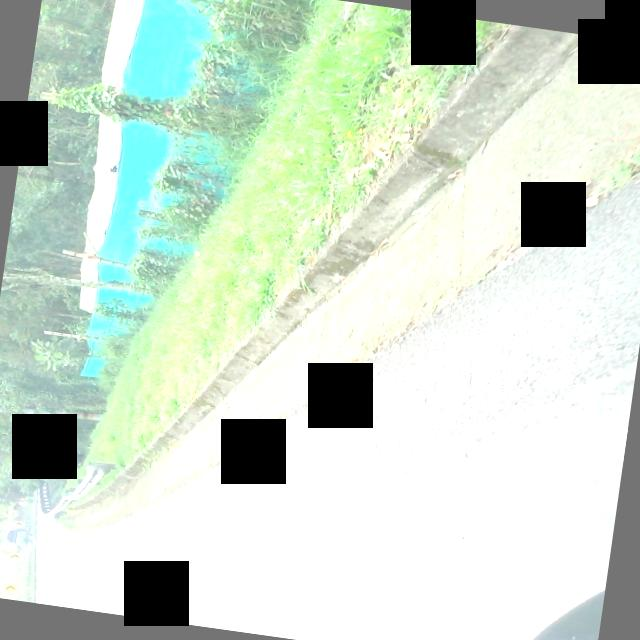DITCH: (0, 0, 640, 631), (44, 0, 640, 607)
